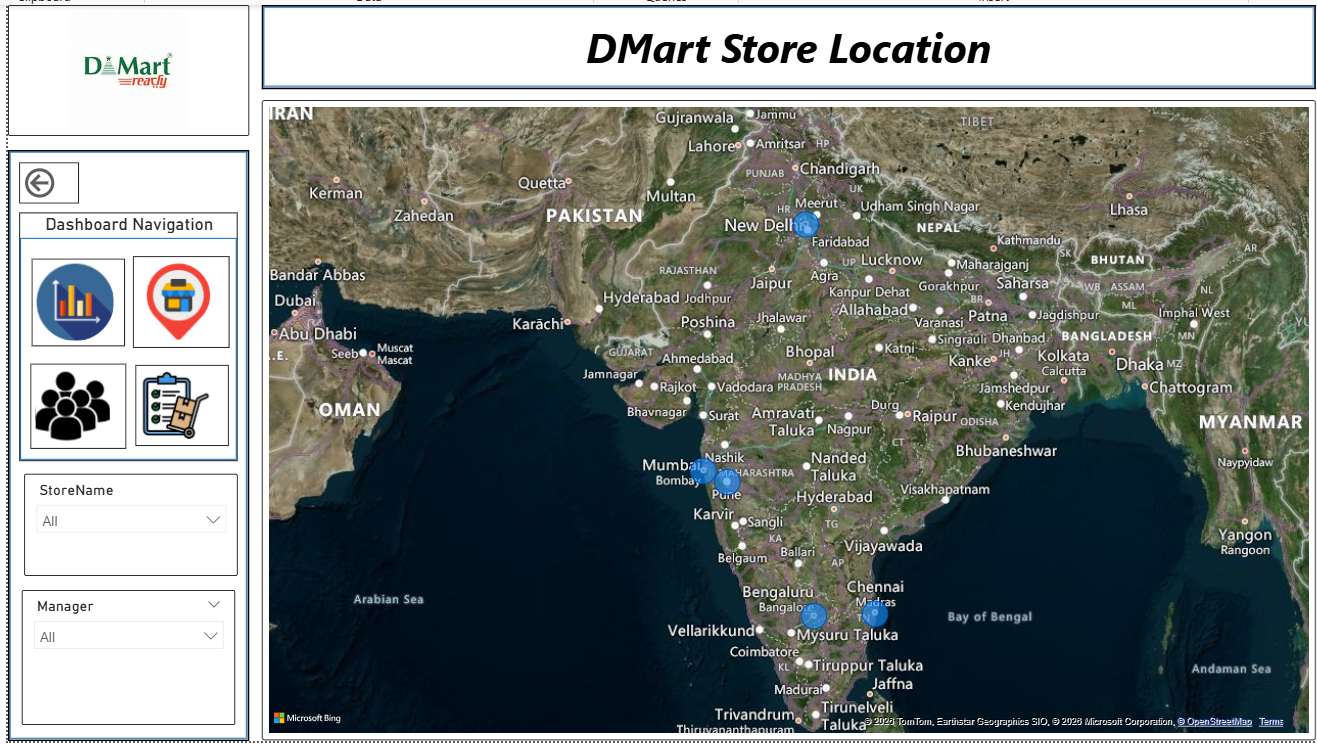

What the dashboard file says about the page in this screenshot:
{"tool":"powerbi","page":{"name":"Page 2","canvas":[1280,720],"ordinal":1},"visuals":[{"type":"shape","box":[248.2,0,1031.6,82.2],"z":0},{"type":"shape","title":"Dashboard Navigation","box":[11,203,214,243.3],"z":0,"group":"g1"},{"type":"image","box":[0,0,236,128.4],"z":1000},{"type":"actionButton","box":[22.7,248.3,91.3,85.6],"z":1000,"group":"g1"},{"type":"shape","box":[0,141.8,236,578.4],"z":2000},{"type":"actionButton","box":[122.3,245.8,94.2,89.3],"z":2000,"group":"g1"},{"type":"map","fields":{"Category":["StoreDim.City"]},"box":[248.2,92.3,1031.6,626.2],"z":3000},{"type":"actionButton","box":[21.4,351,93.9,83.2],"z":3000,"group":"g1"},{"type":"actionButton","box":[124.5,352.2,91.3,79.5],"z":4000,"group":"g1"},{"type":"slicer","fields":{"Values":["StoreDim.StoreName"]},"box":[15.9,458.6,209.1,100.3],"z":4000},{"type":"slicer","fields":{"Values":["StoreDim.Manager"]},"box":[13.5,572.3,209.1,132.1],"z":5000},{"type":"actionButton","box":[11,154.1,58.7,40.4],"z":6000},{"type":"group","id":"g1","title":"Group 3","box":[11,203,214,243.3],"z":7000}]}

Visuals, with their boxes in screenshot pixels (x1, y1, x2, y2):
shape: 255 0 1302 83
"Dashboard Navigation" shape: 15 206 232 453
image: 3 0 243 130
actionButton: 26 252 119 339
shape: 3 144 243 731
actionButton: 128 249 223 340
map - StoreDim.City: 255 94 1302 729
actionButton: 25 356 120 441
actionButton: 130 357 222 438
slicer - StoreDim.StoreName: 20 465 232 567
slicer - StoreDim.Manager: 17 581 229 715
actionButton: 15 156 74 197
"Group 3" group: 15 206 232 453
